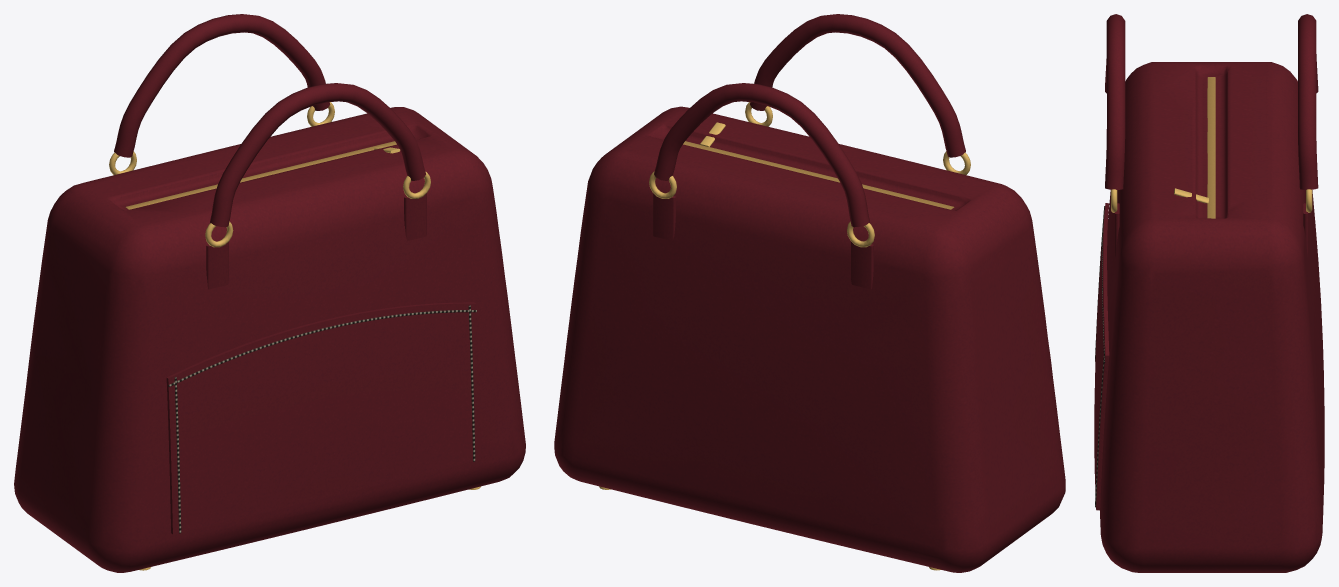
Rendered from handbag.glb.
The picture shows the model from 3 angles, left to right: view 1: azimuth 30°, elevation 25°; view 2: azimuth 150°, elevation 25°; view 3: azimuth 270°, elevation 25°; orthographic projection.
Parts seen in each view (by area): view 1: Handbag body, Front slip pocket, Handles and rings, Stitching and zip; view 2: Handbag body, Handles and rings, Stitching and zip; view 3: Handbag body, Handles and rings, Front slip pocket, Stitching and zip.
Part boxes in pixels (<box>): Handbag body: <box>14,107,525,572</box>; Front slip pocket: <box>166,302,480,534</box>; Handles and rings: <box>109,14,480,570</box>; Stitching and zip: <box>125,141,476,533</box>; Handbag body: <box>554,106,1065,572</box>; Handles and rings: <box>599,14,970,570</box>; Stitching and zip: <box>683,122,954,209</box>; Handbag body: <box>1100,62,1324,572</box>; Handles and rings: <box>1105,14,1318,256</box>; Front slip pocket: <box>1094,203,1109,510</box>; Stitching and zip: <box>1095,77,1215,507</box>.
Size of the model in its own units: 0.3147 by 0.3109 by 0.1431.
4 materials, 4 textured.
